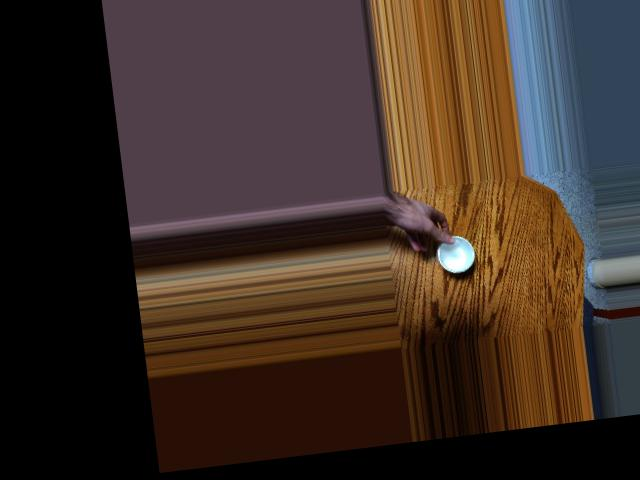cotage: (435, 232, 479, 275)
